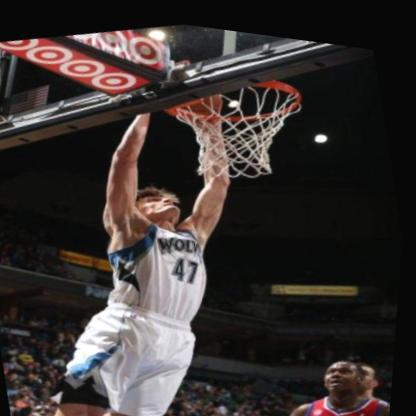basketball: (164, 53, 321, 192)
